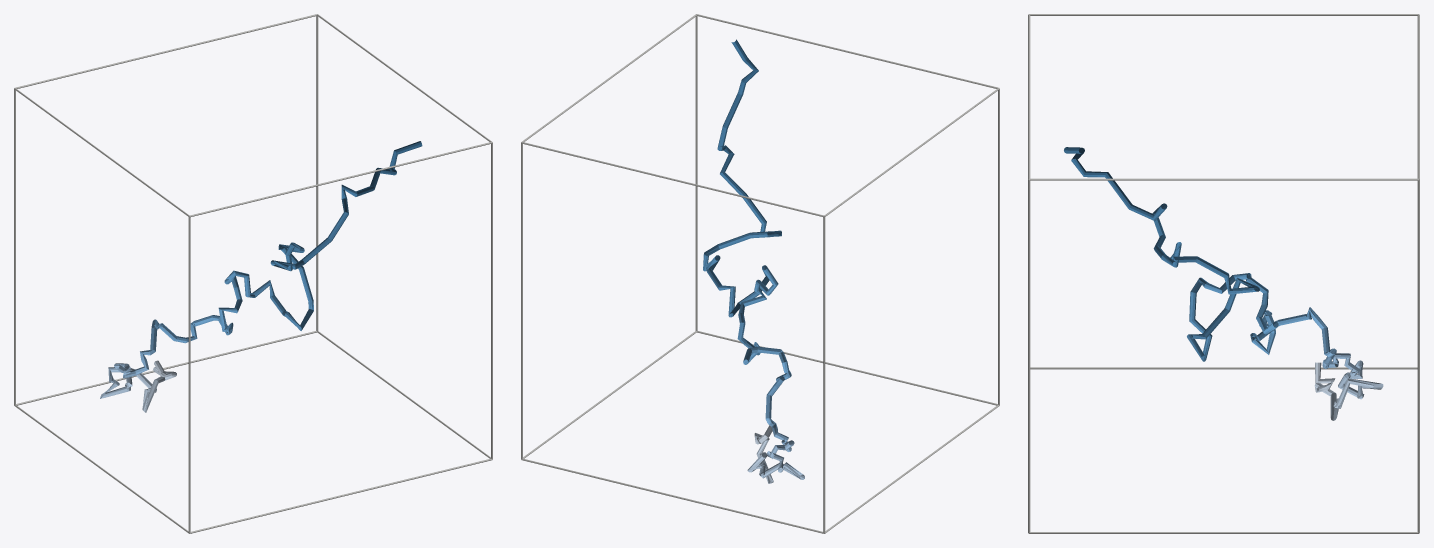
3 views of the same model, side by side, from view 1: azimuth 30°, elevation 25°; view 2: azimuth 150°, elevation 25°; view 3: azimuth 270°, elevation 25° (orthographic). The views are drawn at different scales.
Parts seen in each view (by area): view 1: geometry_1, geometry_0; view 2: geometry_1, geometry_0; view 3: geometry_0, geometry_1.
Part boxes in pixels (x1,y1,x2,y2): geometry_1: (14, 14, 492, 533); geometry_0: (100, 141, 422, 412); geometry_1: (521, 14, 999, 533); geometry_0: (703, 39, 804, 483); geometry_0: (1064, 147, 1383, 420); geometry_1: (1028, 14, 1419, 533).
Bounding box in the file's own units: 0.3016 × 0.3039 × 0.3016.
